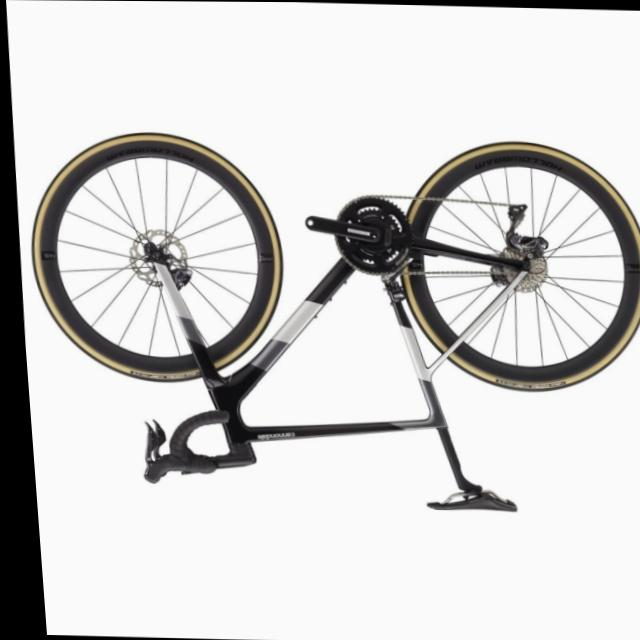road-bike: (15, 127, 640, 516)
